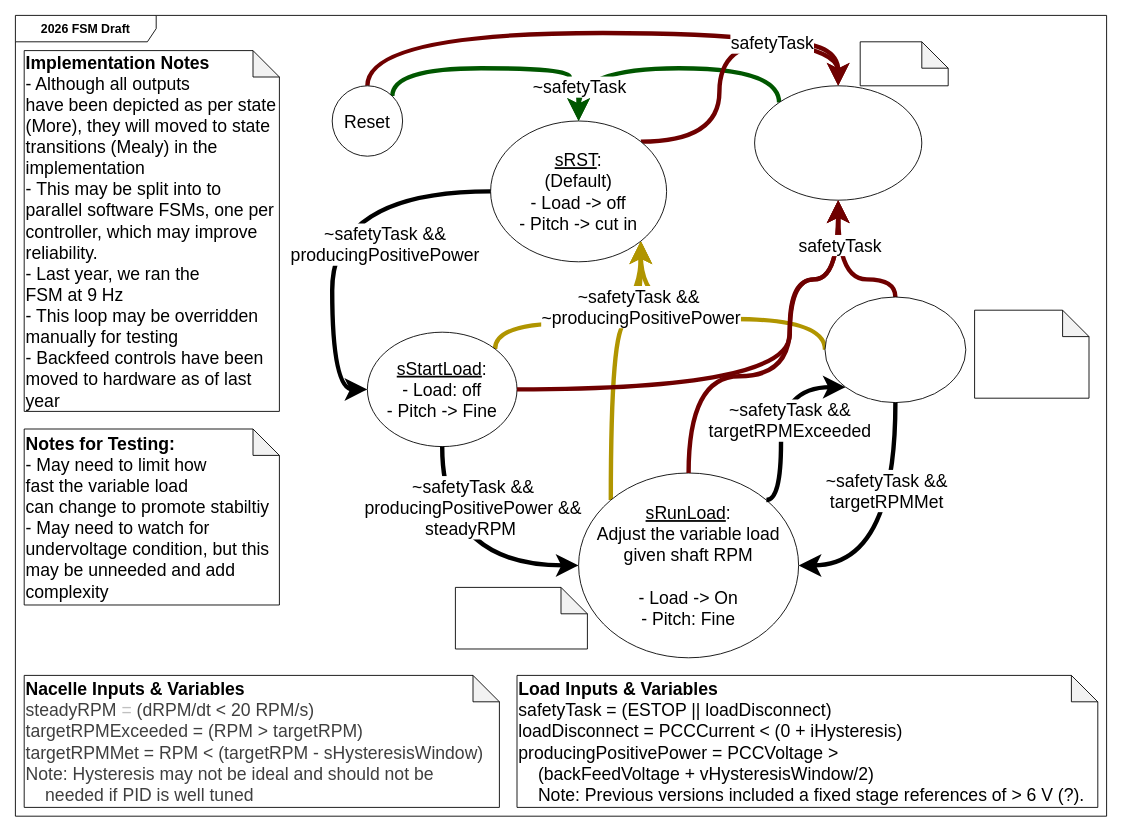
Image size: 1122x832. Some labels were removed from this diagram. The centre of each missing label's shape, as x and y in pixels:
"Control of Rated Power & Durability Task" belongs at (x=1031, y=353).
"Power Curve Performance Task" belongs at (x=521, y=618).
"Safety Task" belongs at (x=903, y=63).
"sCurtail : - Load: Constant - Pitch: PI" belongs at (x=895, y=349).
"sESTOP : - Load -> off - pitch -> feather" belongs at (x=838, y=142).
